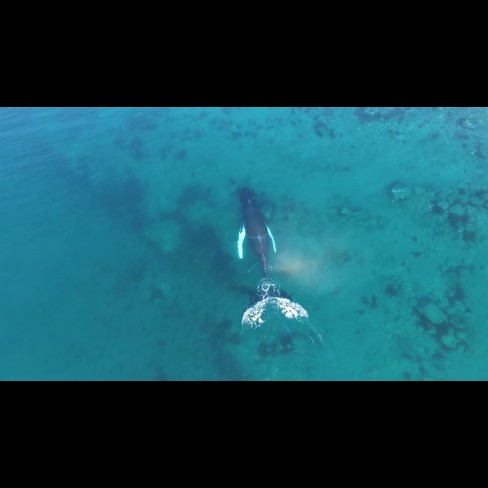hump: (229, 182, 310, 333)
